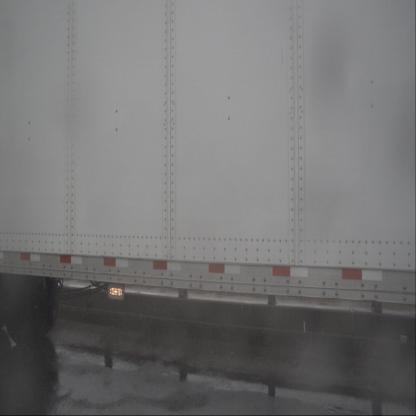vehicle-truck: (0, 0, 416, 360)
